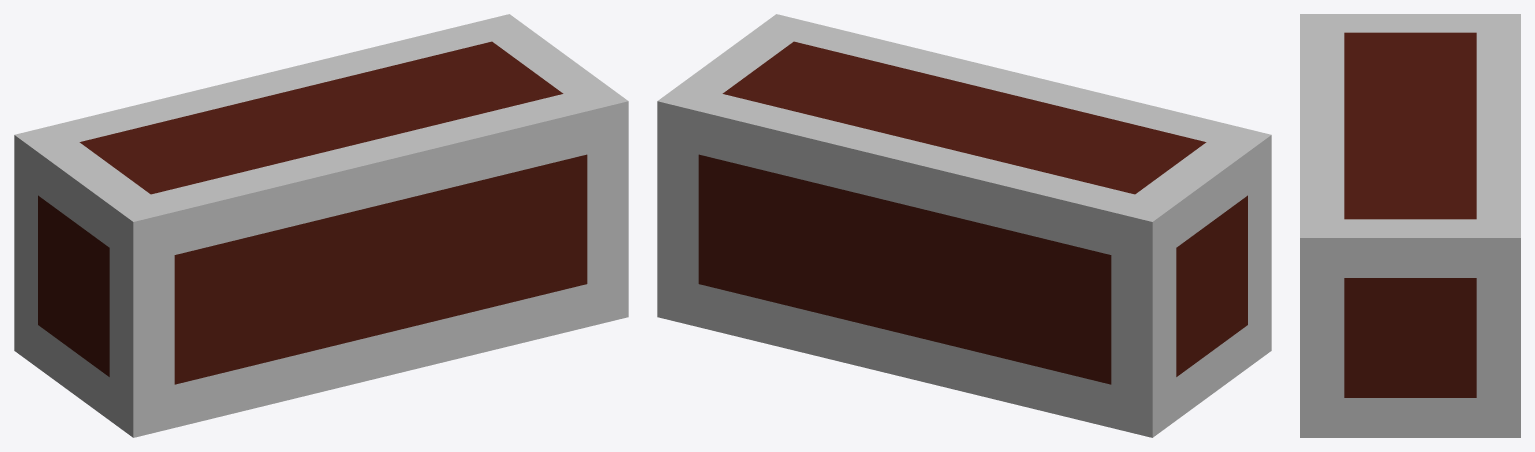
The model's file is ConstructionMaterials-108.obj.
The picture shows the model from 3 angles, left to right: view 1: azimuth 30°, elevation 25°; view 2: azimuth 150°, elevation 25°; view 3: azimuth 270°, elevation 25°; orthographic projection. The views are drawn at different scales.
Bounding box in the file's own units: 1.2 × 0.5 × 0.5.
1 material, 1 textured.
